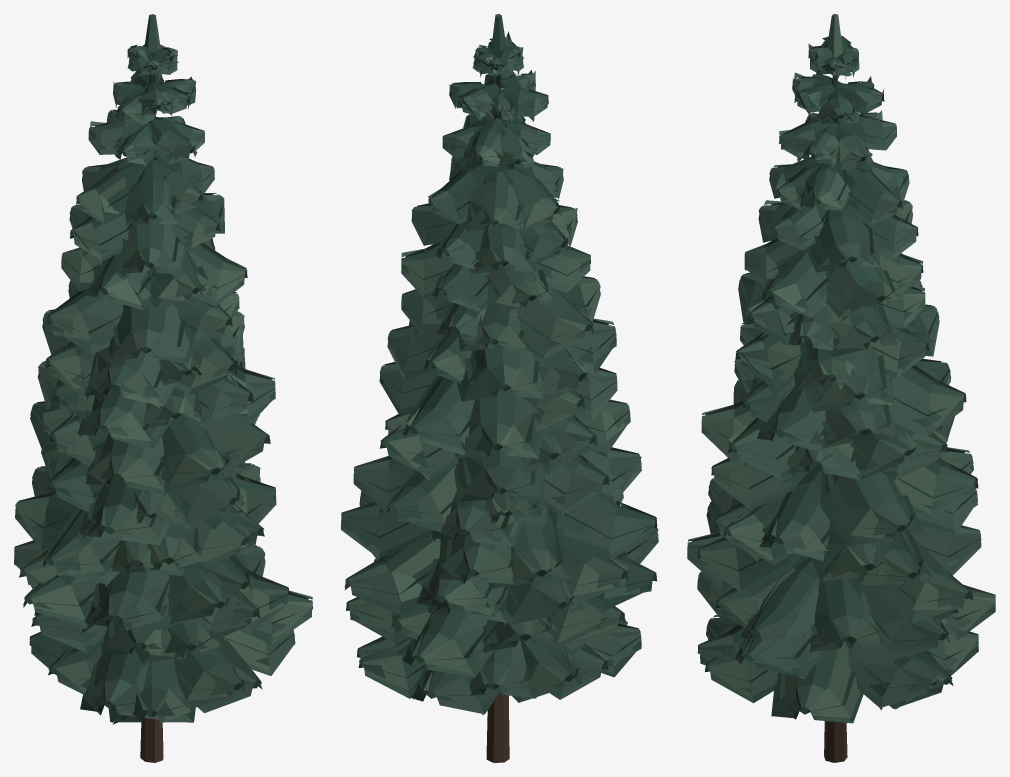
Rendered from pine.glb.
3 renders of one model, left to right at view 1: azimuth 30°, elevation 25°; view 2: azimuth 150°, elevation 25°; view 3: azimuth 270°, elevation 25°, orthographic.
Parts seen in each view (by area): view 1: pine-needles, pine; view 2: pine-needles, pine; view 3: pine-needles, pine.
Part boxes in pixels (x1,y1,x2,y2): pine-needles: (14, 44, 312, 724); pine: (140, 14, 163, 762); pine-needles: (341, 31, 658, 715); pine: (486, 14, 509, 762); pine-needles: (687, 35, 995, 723); pine: (824, 14, 847, 762).
Bounding box in the file's own units: 3.66 × 9.7 × 3.65.
